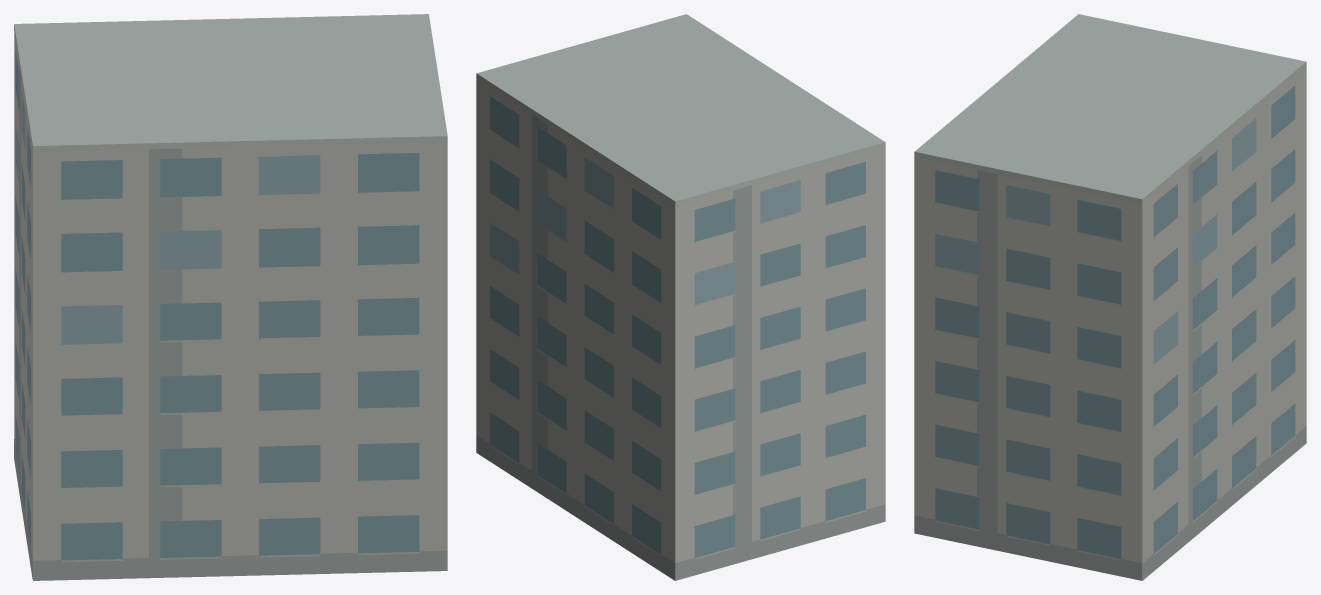
Rendered from survey-upis-32844505.glb.
3 renders of one model, left to right at view 1: azimuth 30°, elevation 25°; view 2: azimuth 150°, elevation 25°; view 3: azimuth 270°, elevation 25°, orthographic. The views are drawn at different scales.
Visible parts, largest first — view 1: survey-upis-32844505.tmp; view 2: survey-upis-32844505.tmp; view 3: survey-upis-32844505.tmp.
Part boxes in pixels (bbox=[...]): survey-upis-32844505.tmp: bbox=[14, 14, 447, 580]; survey-upis-32844505.tmp: bbox=[476, 14, 885, 580]; survey-upis-32844505.tmp: bbox=[914, 14, 1306, 580].
Size of the model in its own units: 18.01 by 17.3 by 16.12.
